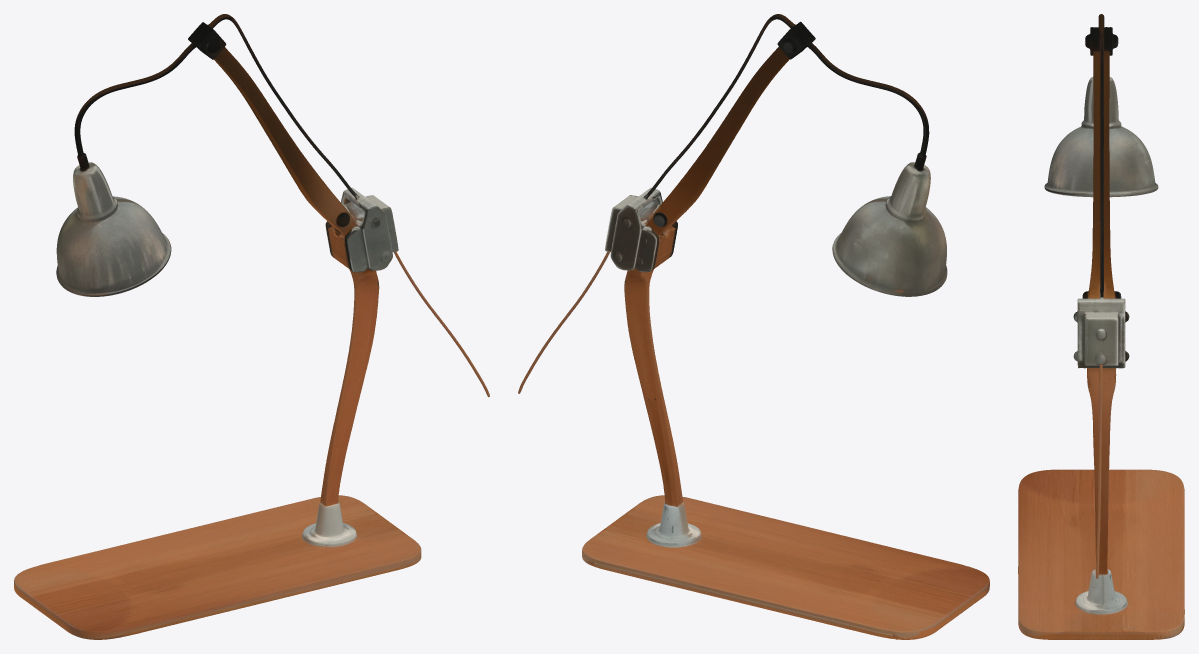
The model's file is mantis.glb.
3 renders of one model, left to right at view 1: azimuth 30°, elevation 25°; view 2: azimuth 150°, elevation 25°; view 3: azimuth 270°, elevation 25°, orthographic. The views are drawn at different scales.
Bounding box in the file's own units: 1.59 × 1.9 × 0.5361.
1 material, 1 textured.
